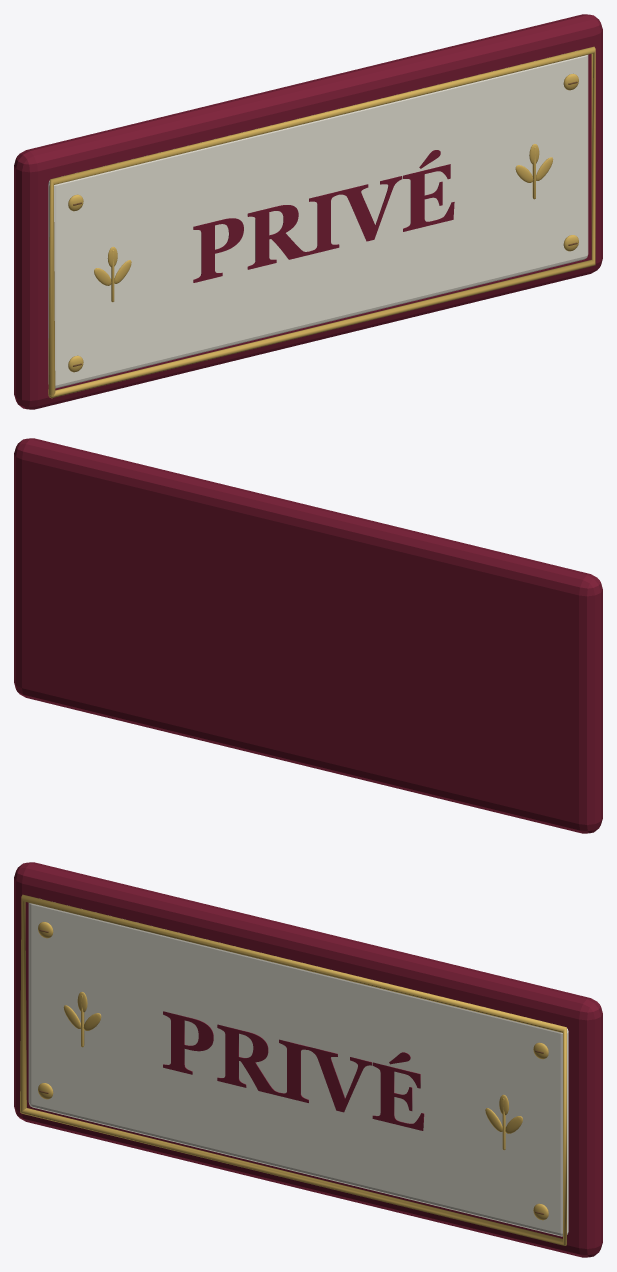
File: service_private_plaque.glb
3 views of the same model, one above another, from view 1: azimuth 30°, elevation 25°; view 2: azimuth 150°, elevation 25°; view 3: azimuth 330°, elevation 25° (orthographic).
Parts seen in each view (by area): view 1: Ivory_enamel, Burgundy_molded_frame, Fine_edge, Flat_private; view 2: Burgundy_molded_frame; view 3: Ivory_enamel, Burgundy_molded_frame, Fine_edge, Flat_private.
Part boxes in pixels (x1,y1,x2,y2): Ivory_enamel: (48, 55, 588, 388); Burgundy_molded_frame: (14, 14, 602, 409); Fine_edge: (48, 46, 595, 398); Flat_private: (193, 150, 454, 282); Burgundy_molded_frame: (14, 438, 602, 833); Ivory_enamel: (28, 903, 568, 1236); Burgundy_molded_frame: (14, 862, 602, 1257); Fine_edge: (20, 894, 566, 1245); Flat_private: (163, 1011, 424, 1130).
Size of the model in its own units: 0.38 by 0.16 by 0.0282.
